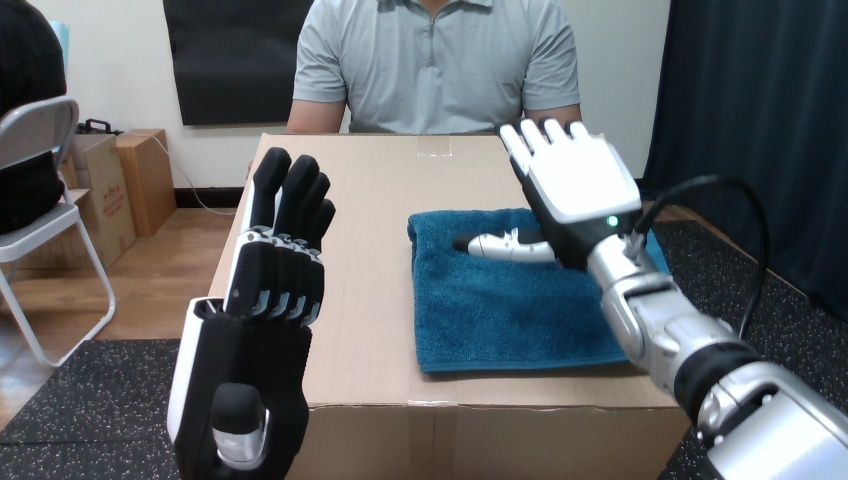left robot hand: (454, 119, 847, 478), (167, 147, 334, 478), (644, 183, 762, 334)
